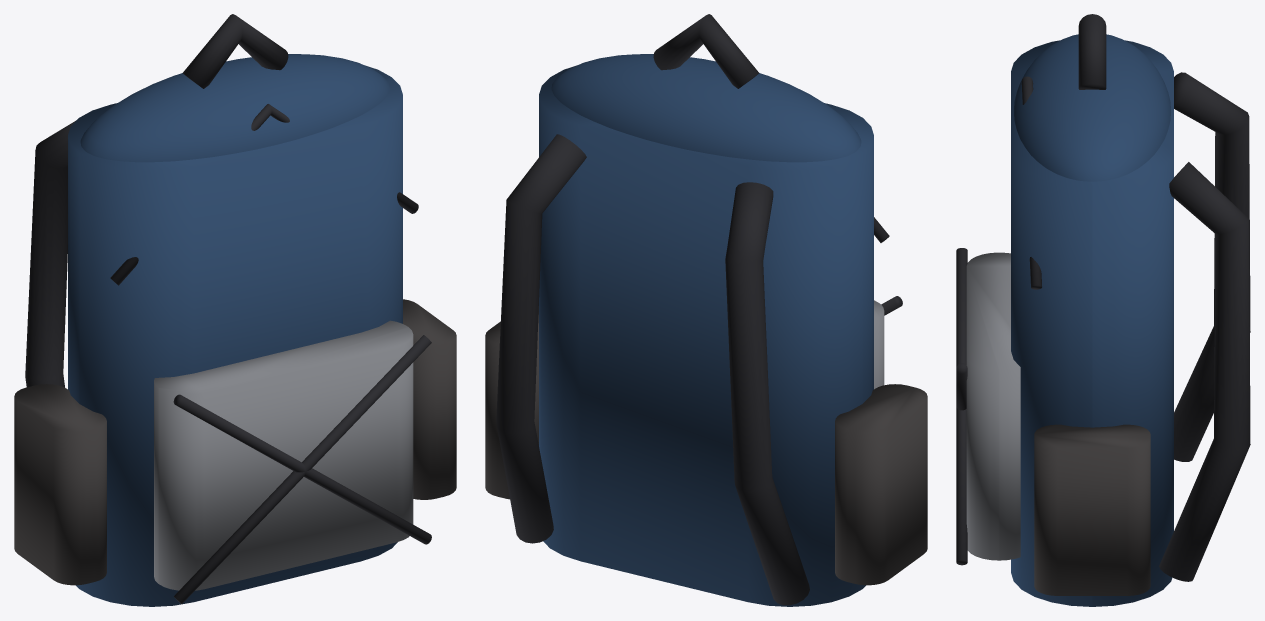
Rendered from backpack.glb.
3 views of the same model, side by side, from view 1: azimuth 30°, elevation 25°; view 2: azimuth 150°, elevation 25°; view 3: azimuth 270°, elevation 25° (orthographic). The views are drawn at different scales.
Parts seen in each view (by area): view 1: part0, part2, part9, part3; view 2: part0, part3, part9, part2; view 3: part0, part3, part9, part2.
Boxes of the visible parts, x1,y1,x2,y2 form: part0: (68, 54, 402, 606); part2: (154, 320, 413, 590); part9: (14, 299, 456, 585); part3: (25, 14, 431, 603); part0: (539, 54, 873, 606); part3: (496, 14, 902, 605); part9: (485, 306, 927, 585); part2: (874, 300, 884, 389); part0: (1011, 34, 1173, 606); part3: (956, 14, 1250, 581); part9: (1034, 424, 1150, 595); part2: (966, 252, 1020, 560).
Bounding box in the file's own units: 0.7805 × 1 × 0.5132.
